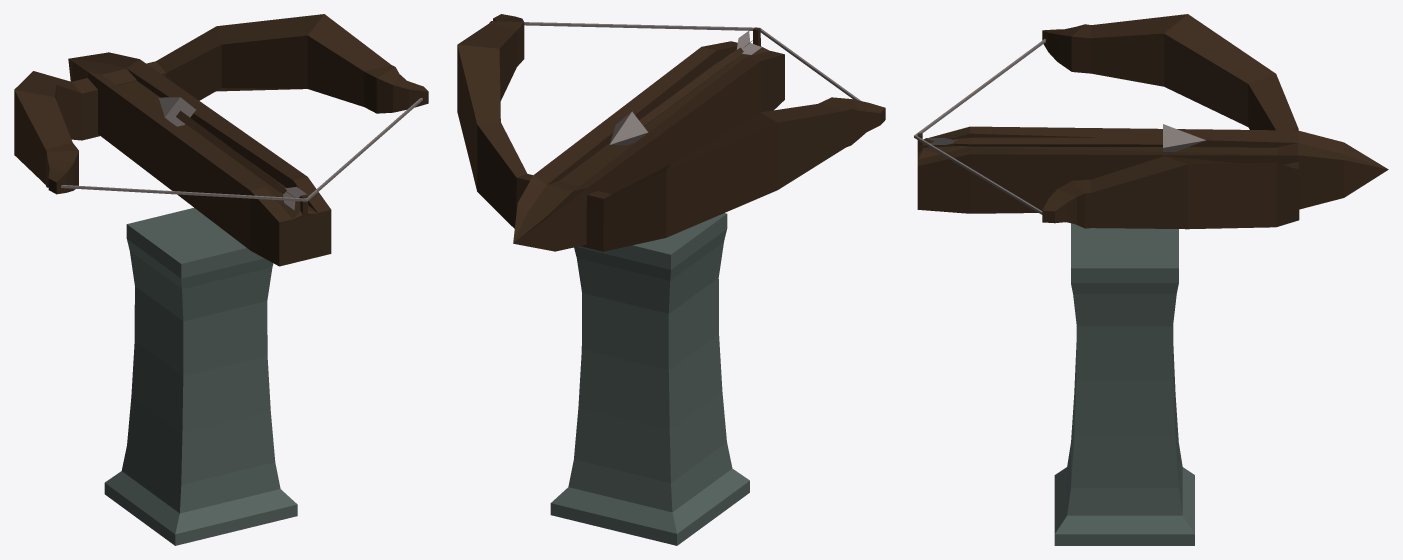
The model's file is HEAVY_TURET_LV_1_(fix_ani).fbx.
3 renders of one model, left to right at view 1: azimuth 30°, elevation 25°; view 2: azimuth 150°, elevation 25°; view 3: azimuth 270°, elevation 25°, orthographic. The views are drawn at different scales.
Parts seen in each view (by area): view 1: Cube, Cube_2, Cube_1, Cube_3, Cube_4, Cube_5; view 2: Cube, Cube_2, Cube_1, Cube_3, Cube_4, Cube_5; view 3: Cube, Cube_2, Cube_1, Cube_4, Cube_3, Cube_5.
Boxes of the visible parts, box(x1,y1,x2,y2) form: Cube: box(104, 208, 297, 545); Cube_2: box(14, 14, 428, 194); Cube_1: box(68, 52, 331, 266); Cube_3: box(61, 98, 422, 201); Cube_4: box(176, 110, 286, 193); Cube_5: box(159, 97, 195, 126); Cube: box(550, 213, 749, 545); Cube_2: box(457, 14, 885, 251); Cube_1: box(513, 27, 784, 251); Cube_3: box(524, 22, 860, 100); Cube_4: box(639, 47, 743, 126); Cube_5: box(609, 111, 648, 145); Cube: box(1054, 223, 1194, 545); Cube_2: box(1042, 14, 1299, 229); Cube_1: box(917, 126, 1388, 213); Cube_4: box(954, 137, 1162, 146); Cube_3: box(914, 39, 1045, 214); Cube_5: box(1163, 124, 1205, 152).
Bounding box in the file's own units: 404 × 442 × 445.
